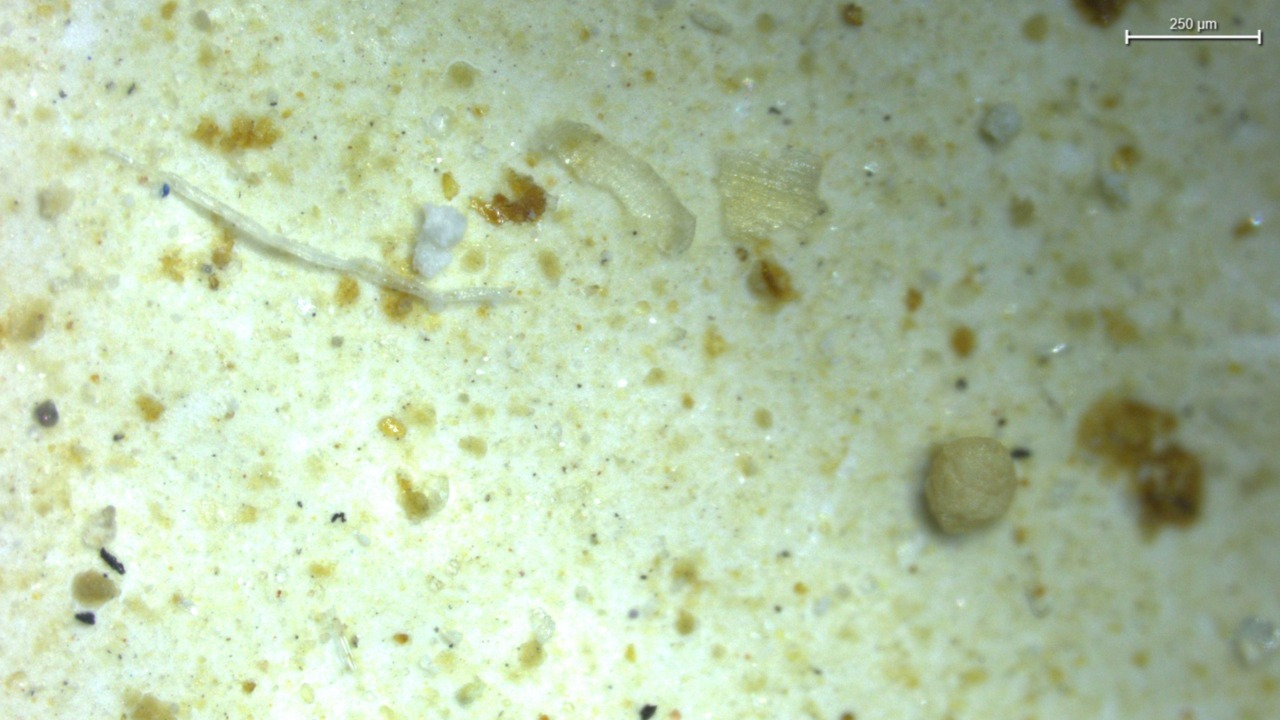microplastic_fragment: (534, 120, 696, 254), (715, 149, 827, 238), (924, 437, 1017, 534), (413, 204, 467, 278)
